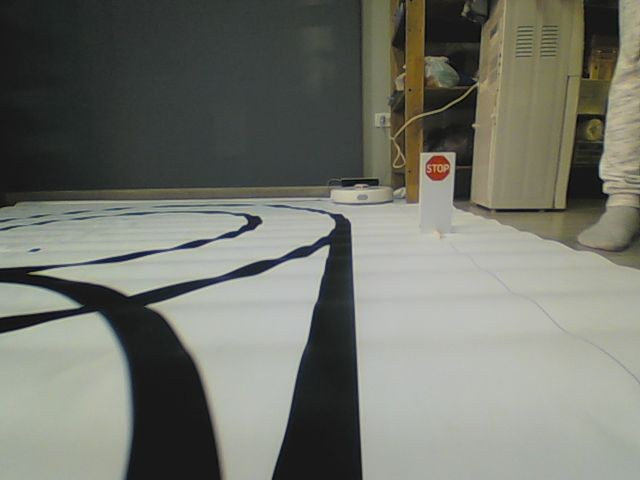Stop: (424, 155, 453, 182)
